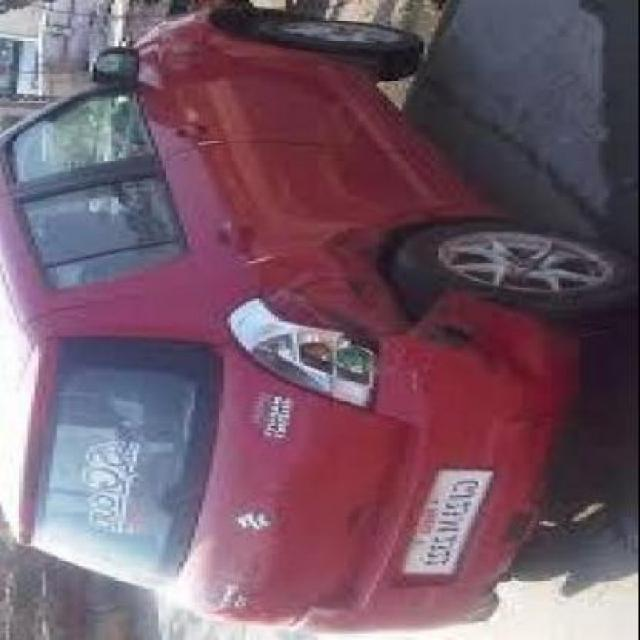damage: (255, 209, 547, 406)
